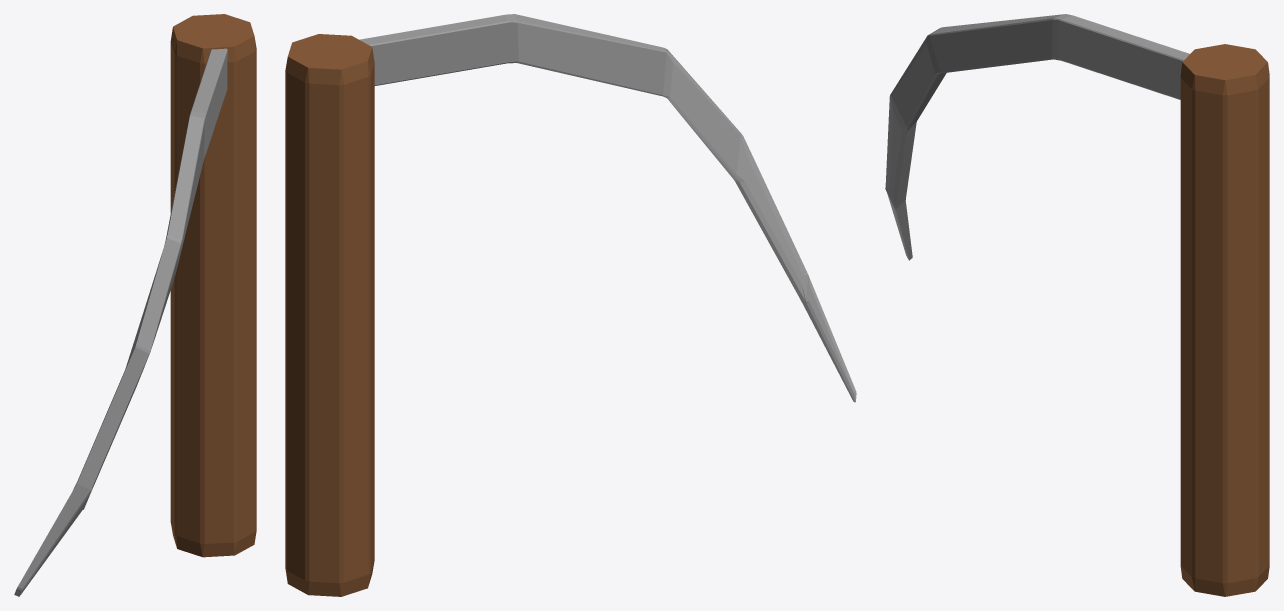
The model's file is Scythe.glb.
3 views of the same model, side by side, from view 1: azimuth 30°, elevation 25°; view 2: azimuth 150°, elevation 25°; view 3: azimuth 270°, elevation 25° (orthographic). The views are drawn at different scales.
Visible parts, largest first — view 1: Cube; view 2: Cube; view 3: Cube.
Part boxes in pixels (box(x1,y1,x2,y2)): Cube: box(14, 14, 256, 596); Cube: box(285, 14, 856, 596); Cube: box(885, 14, 1269, 596).
Bounding box in the file's own units: 1.21 × 1.5 × 1.01.
